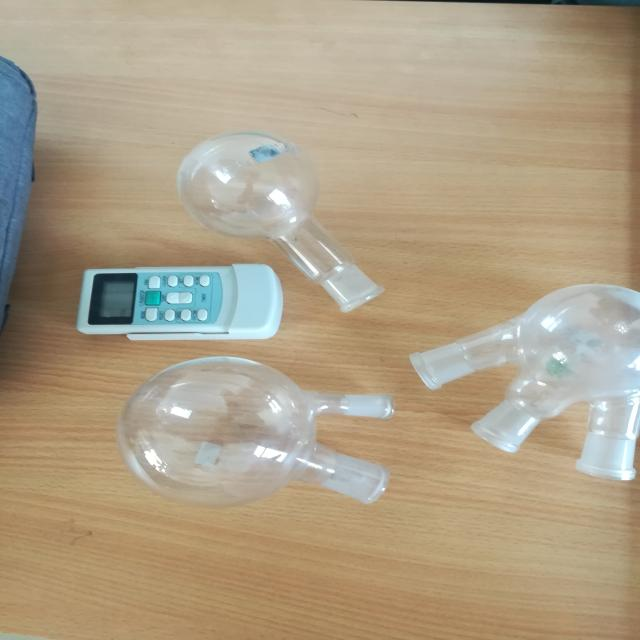Round_Bottom_Flask_Borosilicate_Glass_1_Neck: (160, 113, 397, 332)
Round_Bottom_Flask_Borosilicate_Glass_2_Neck: (89, 347, 408, 546)
Round_Bottom_Flask_Borosilicate_Glass_3_Neck: (404, 277, 640, 495)
